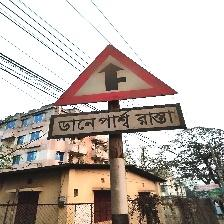Side-road-right: (46, 44, 185, 139)
